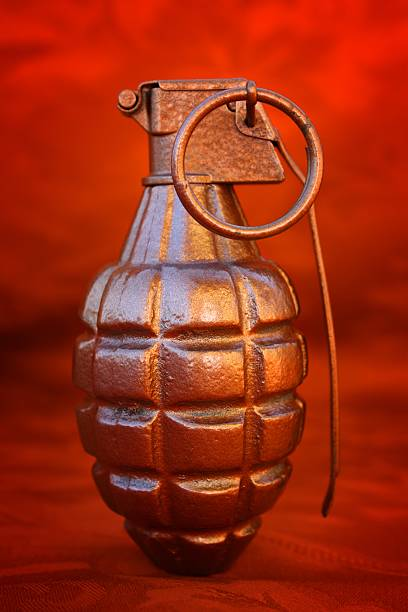e1: (72, 77, 346, 574)
